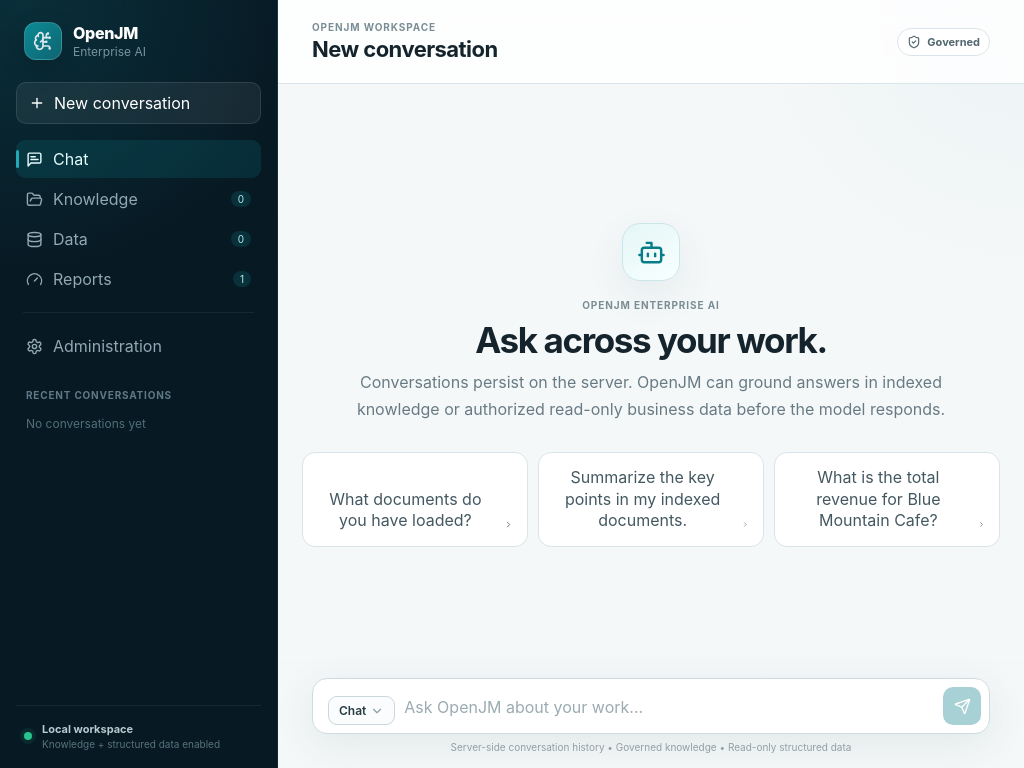
Scenario: preparing a rerun fills a new Chat composer without executing it
The image size is (1024, 768).
Click the button "Reports 1". click: click(138, 279)
box: [16,260,261,298]
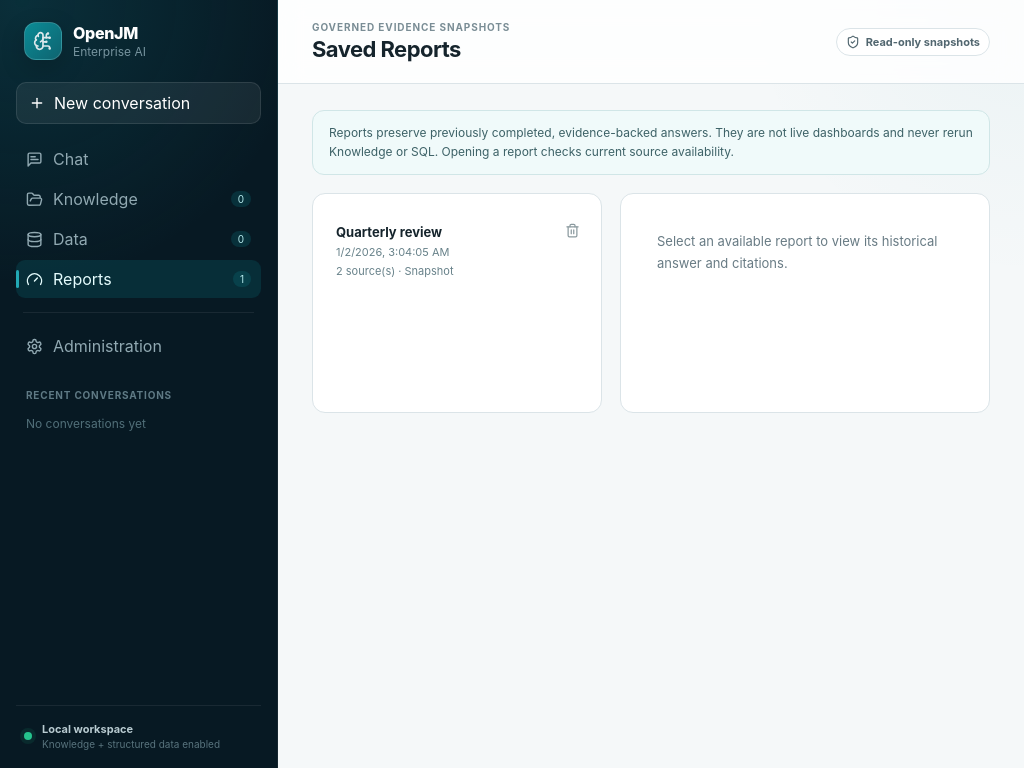
Click the button "Quarterly review 1/2/2026, 3:04:05 AM 2 source(s) · Snapshot". click: click(440, 251)
box: [327,215,552,287]
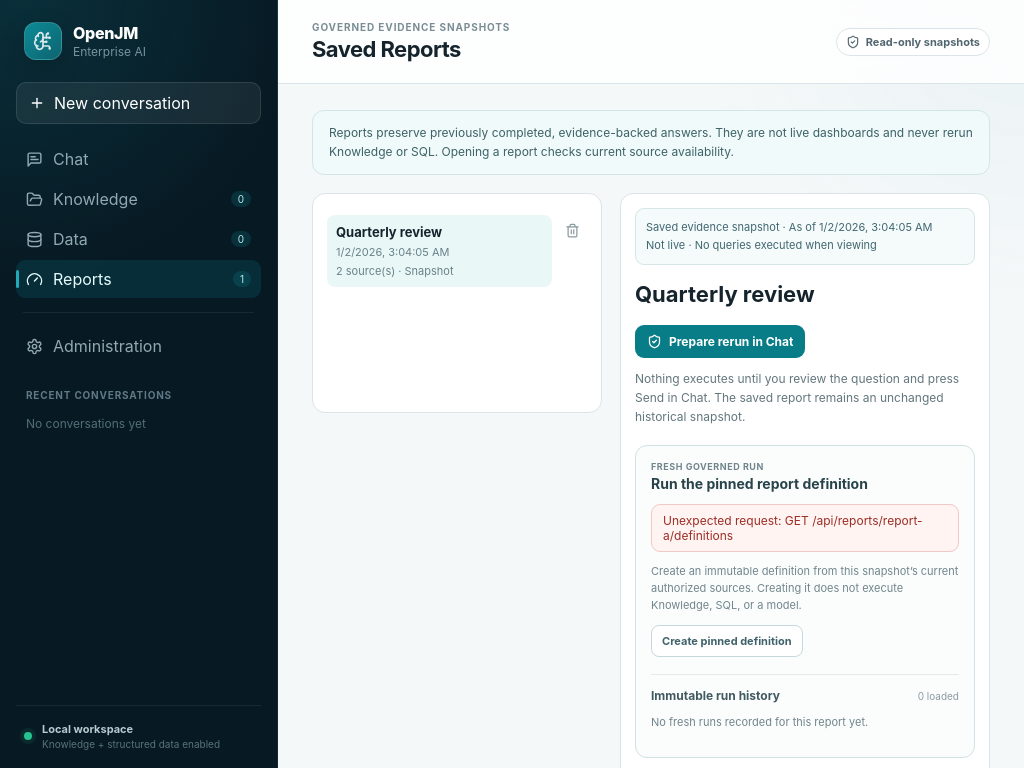
Click the button "Prepare rerun in Chat". click: click(720, 342)
box: [635,325,805,358]
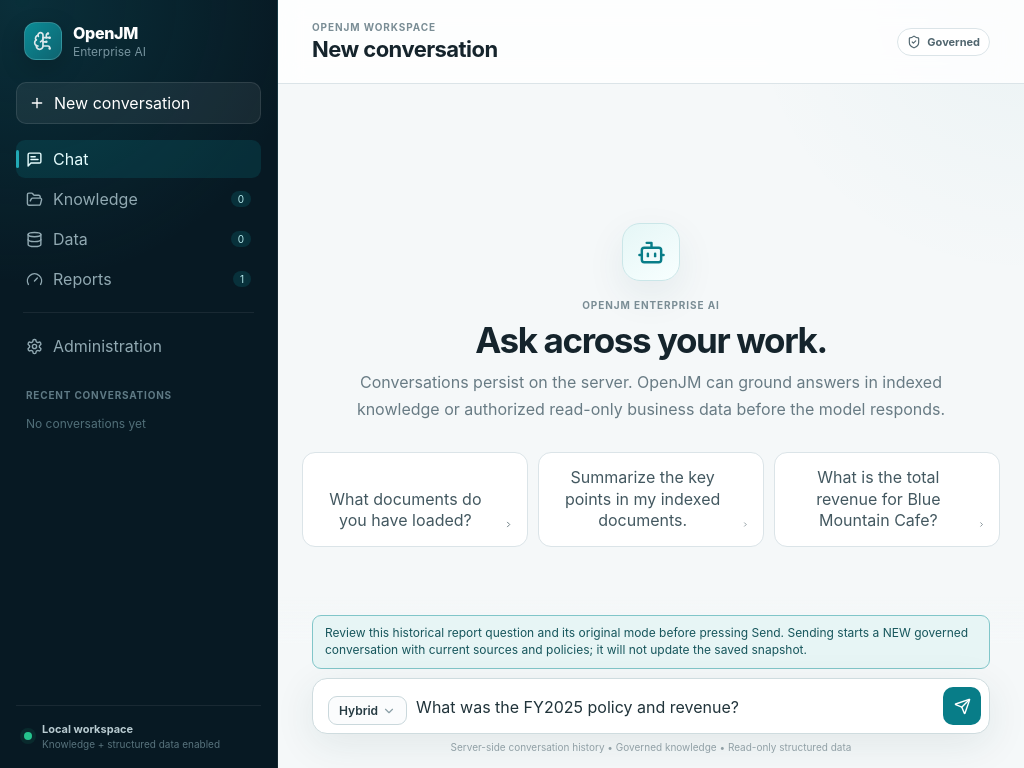
Result: the text box with placeholder "Ask OpenJM about your work..." holds "What was the FY2025 policy and revenue?" at [416,687,934,725]
Result: the text "Review this historical report question" is shown at [325,625,968,657]
Result: the text "Hybrid" is shown at [339,703,378,718]
